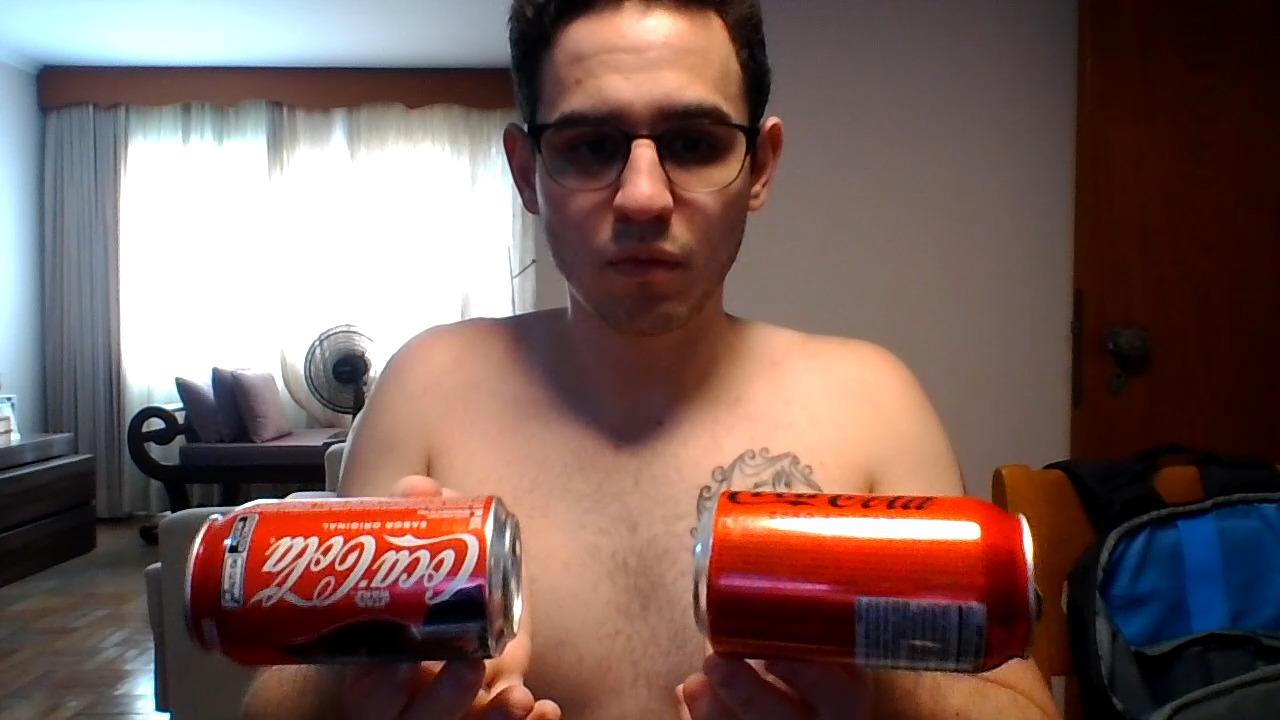coke: (690, 491, 1040, 671), (180, 493, 528, 667)
